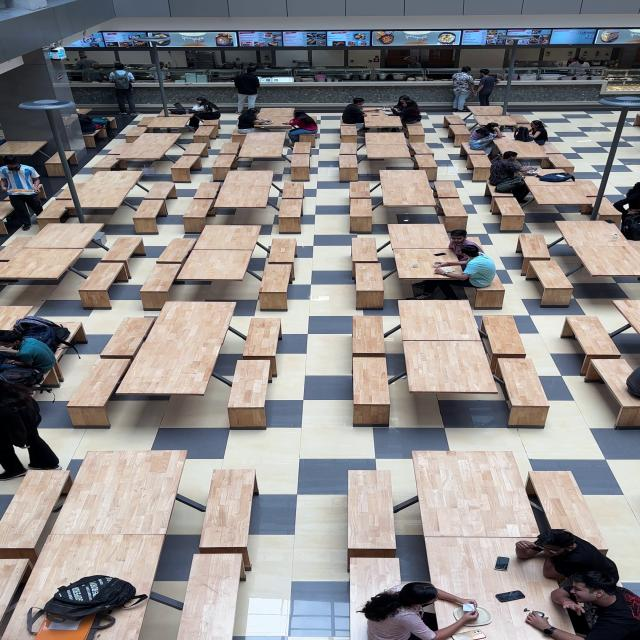Occupied: (357, 575, 640, 640), (21, 561, 152, 640), (0, 316, 63, 465), (492, 527, 619, 577), (428, 228, 497, 288), (458, 115, 552, 147), (3, 158, 38, 225), (239, 108, 318, 132), (498, 149, 532, 188), (378, 94, 424, 119), (71, 109, 112, 137), (538, 168, 578, 188), (191, 98, 224, 121), (346, 94, 364, 122), (627, 368, 640, 402)
Unoccupied: (56, 450, 179, 536), (399, 297, 498, 396), (410, 448, 536, 522), (147, 304, 234, 394), (343, 467, 405, 555), (175, 552, 235, 638), (498, 317, 550, 407), (0, 465, 53, 550), (185, 220, 255, 280), (200, 466, 252, 545), (572, 214, 640, 274), (232, 316, 274, 410), (354, 312, 392, 408), (81, 233, 138, 295), (519, 231, 570, 293), (542, 471, 596, 529), (69, 356, 124, 408), (2, 236, 64, 278), (422, 521, 476, 568), (352, 231, 390, 296), (566, 311, 618, 356), (382, 168, 434, 208), (259, 233, 292, 295), (131, 178, 177, 222), (60, 538, 159, 558), (102, 312, 148, 355), (222, 168, 270, 208), (0, 555, 25, 620), (358, 130, 410, 158), (435, 178, 469, 219), (185, 180, 218, 222), (275, 175, 303, 222), (84, 172, 119, 208), (347, 178, 374, 221), (243, 131, 286, 158), (131, 130, 166, 163), (528, 187, 590, 204), (349, 559, 404, 578), (173, 139, 204, 171), (484, 193, 526, 216), (0, 133, 43, 154), (150, 261, 178, 293), (96, 144, 127, 172), (216, 138, 243, 170), (125, 355, 146, 396), (590, 355, 624, 380), (412, 141, 443, 168), (143, 112, 186, 130), (43, 196, 73, 220), (616, 298, 640, 328), (290, 139, 312, 168), (336, 139, 358, 166), (44, 220, 78, 236), (461, 148, 486, 169), (0, 302, 37, 316), (160, 238, 178, 264), (467, 104, 510, 114), (404, 118, 425, 138), (582, 180, 603, 200), (360, 117, 409, 125), (548, 153, 574, 168), (80, 220, 106, 232), (195, 124, 215, 139), (523, 148, 548, 159), (338, 124, 359, 136), (599, 200, 616, 214), (51, 150, 63, 166), (447, 111, 459, 127), (64, 147, 76, 157), (74, 182, 82, 194)
